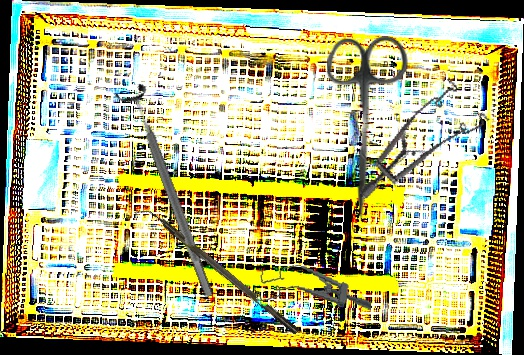Chopper: (133, 199, 300, 343)
Fixation Ring: (112, 81, 226, 303)
Iris Scissors: (323, 34, 409, 223)
Speculum: (356, 62, 499, 231), (254, 259, 376, 318)
